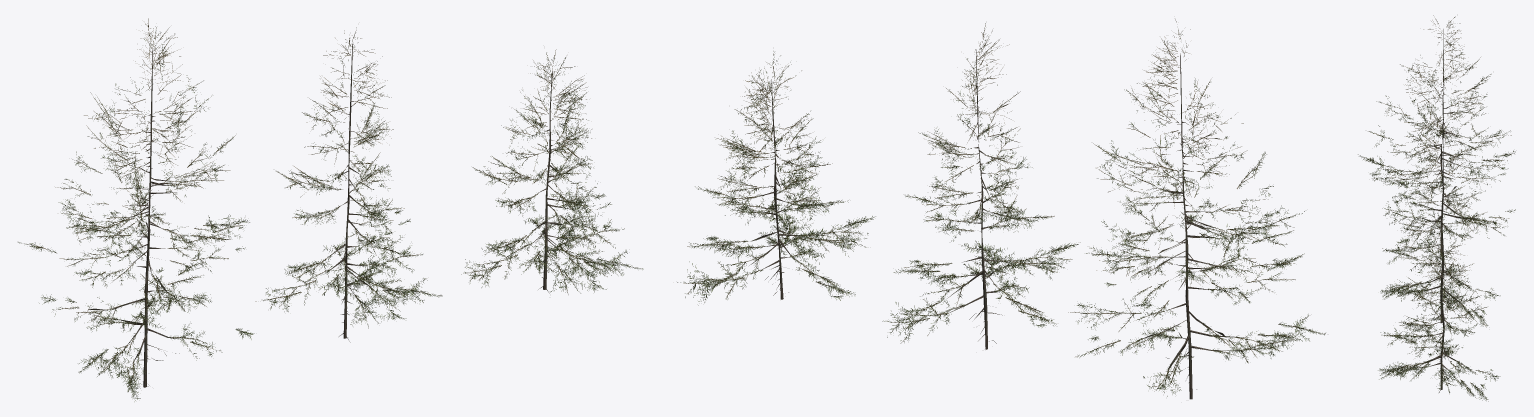
Rendered from fir_sapling_medium.glb.
3 views of the same model, side by side, from view 1: azimuth 30°, elevation 25°; view 2: azimuth 150°, elevation 25°; view 3: azimuth 270°, elevation 25° (orthographic). The views are drawn at different scales.
Parts seen in each view (by area): view 1: fir_sapling_medium_a_LOD0; view 2: fir_sapling_medium_a_LOD0; view 3: fir_sapling_medium_a_LOD0.
Part boxes in pixels (x1=…): fir_sapling_medium_a_LOD0: x1=18, y1=18, x2=643, y2=401; fir_sapling_medium_a_LOD0: x1=677, y1=19, x2=1325, y2=399; fir_sapling_medium_a_LOD0: x1=1358, y1=15, x2=1515, y2=401.
Bounding box in the file's own units: 14.68 × 8.85 × 5.15.
3 materials, 3 textured.
